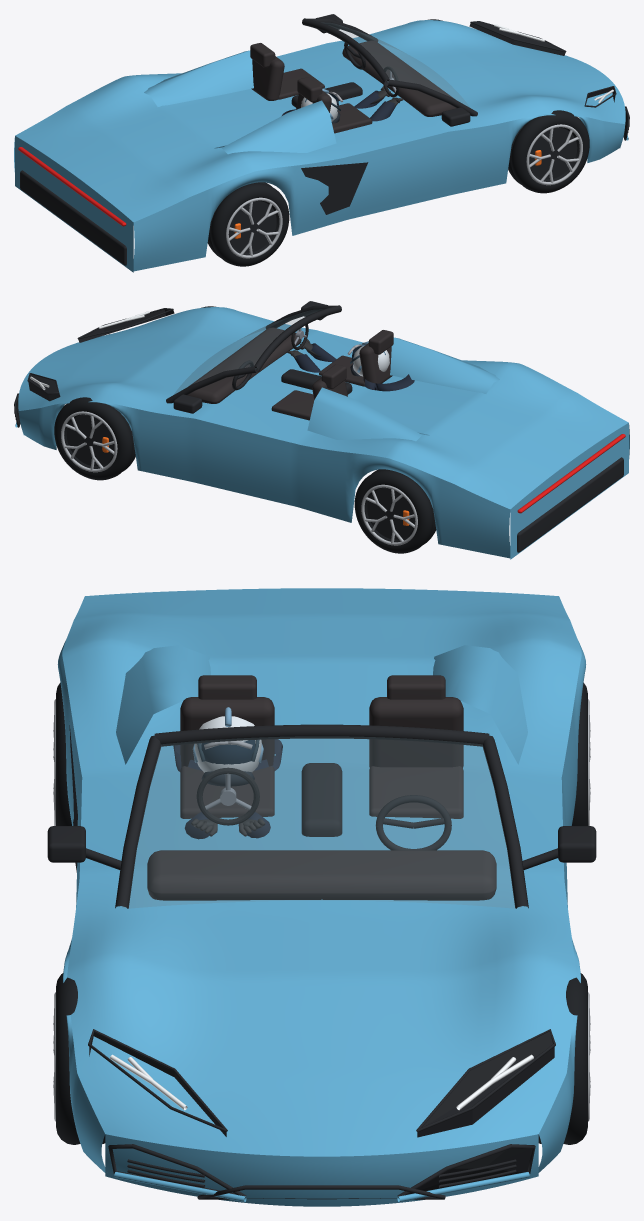
File: lamborghini-aventador-roadster.glb
3 views of the same model, one above another, from view 1: azimuth 30°, elevation 25°; view 2: azimuth 150°, elevation 25°; view 3: azimuth 270°, elevation 25° (orthographic). The views are drawn at different scales.
Parts seen in each view (by area): view 1: Sculpted bonnet and wheel shoulders, Wheel arch and door skin.001, Bumper skin.001, Rear flying buttress.001, Rear flying buttress, Pneu.007, Pneu.005, Curved windshield, Dashboard, Diffuseur, Entree laterale.001, Disque.002 (+15 smaller); view 2: Sculpted bonnet and wheel shoulders, Wheel arch and door skin, Bumper skin.001, Rear flying buttress, Rear flying buttress.001, Pneu.002, Pneu, Dashboard, Curved windshield, Diffuseur, Disque, Disque.001 (+17 smaller); view 3: Sculpted bonnet and wheel shoulders, Curved windshield, Dashboard, Bumper skin, Rear flying buttress, Rear flying buttress.001, Dossier, Windshield header, Assise, Headlamp sculptured outer housing, Wheel arch and door skin, Wheel arch and door skin.001 (+22 smaller).
Part boxes in pixels (x1,y1,x2,y2): Sculpted bonnet and wheel shoulders: (15,20,625,222); Wheel arch and door skin.001: (133,114,625,271); Bumper skin.001: (15,136,133,272); Rear flying buttress.001: (214,100,336,154); Rear flying buttress: (144,50,253,106); Pneu.007: (210,183,289,266); Pneu.005: (511,110,589,193); Curved windshield: (322,22,469,106); Dashboard: (342,40,456,116); Diffuseur: (20,170,126,265); Entree laterale.001: (301,162,368,214); Disque.002: (529,128,577,179); Sculpted bonnet and wheel shoulders: (18,307,628,509); Wheel arch and door skin: (18,401,510,558); Bumper skin.001: (510,423,628,559); Rear flying buttress: (307,387,429,441); Rear flying buttress.001: (390,337,499,393); Pneu.002: (354,470,433,553); Pneu: (54,397,132,480); Dashboard: (187,327,301,403); Curved windshield: (174,309,321,393); Diffuseur: (517,457,623,552); Disque: (66,415,114,466); Disque.001: (367,488,415,539); Sculpted bonnet and wheel shoulders: (62,588,581,1156); Curved windshield: (122,736,521,908); Dashboard: (147,850,496,900); Bumper skin: (105,1134,538,1206); Rear flying buttress: (433,645,527,764); Rear flying buttress.001: (116,645,210,764); Dossier: (369,697,463,767); Windshield header: (154,724,489,746); Assise: (369,766,463,818); Headlamp sculptured outer housing: (417,1031,554,1137); Wheel arch and door skin: (538,640,586,1172); Wheel arch and door skin.001: (57,640,105,1172).
Size of the model in its own units: 4.83 by 1.21 by 2.15.
